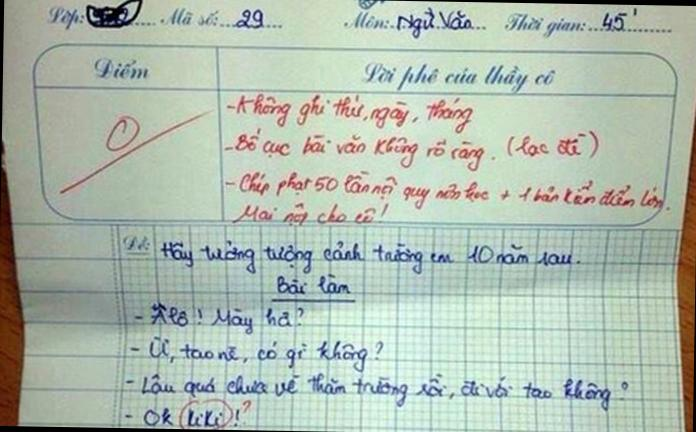text: (123, 367, 631, 413), (119, 232, 579, 282), (224, 166, 672, 217), (223, 122, 602, 176), (340, 0, 638, 46), (223, 91, 477, 136), (127, 334, 385, 374), (43, 0, 265, 36), (359, 60, 558, 96), (132, 303, 304, 337), (230, 197, 390, 232), (122, 404, 241, 430), (273, 270, 353, 298), (103, 112, 144, 156), (93, 55, 152, 82)
